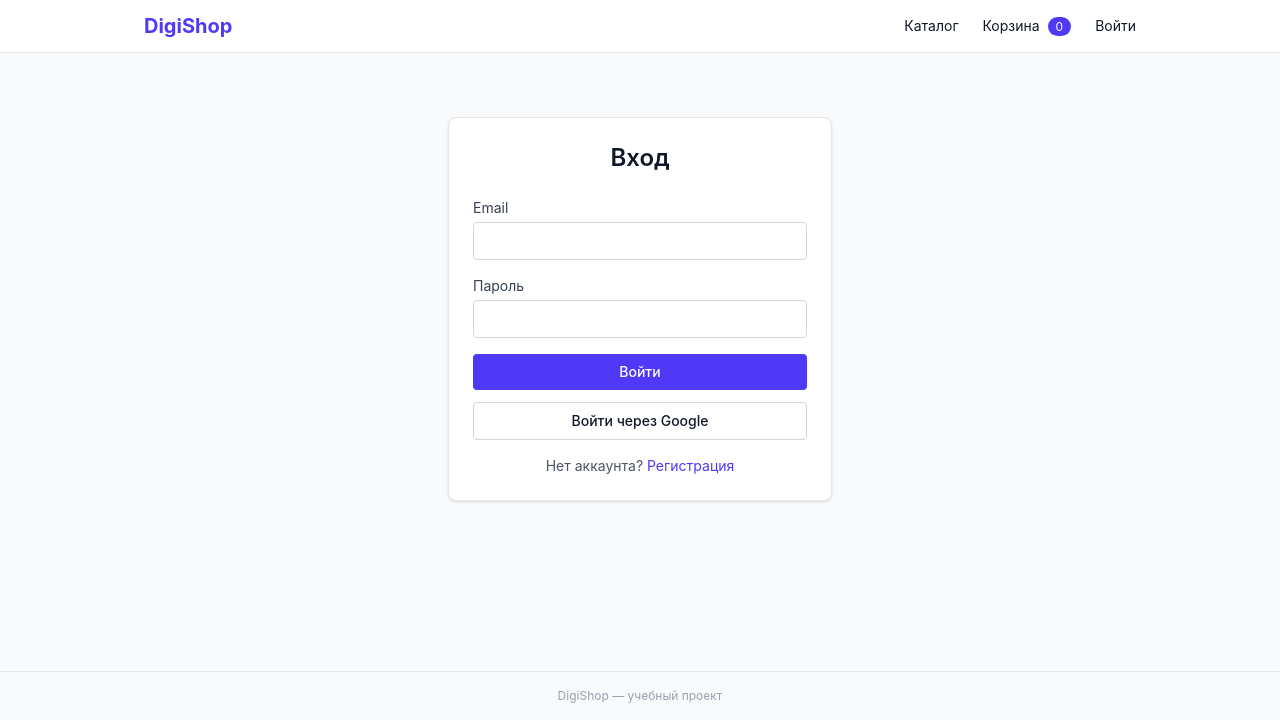
Test case: успешный логин сохраняет токен и переходит на другую страницу
Type "user@example.com" into the field labelled "Email" at (640, 241), box [473,222,807,260]
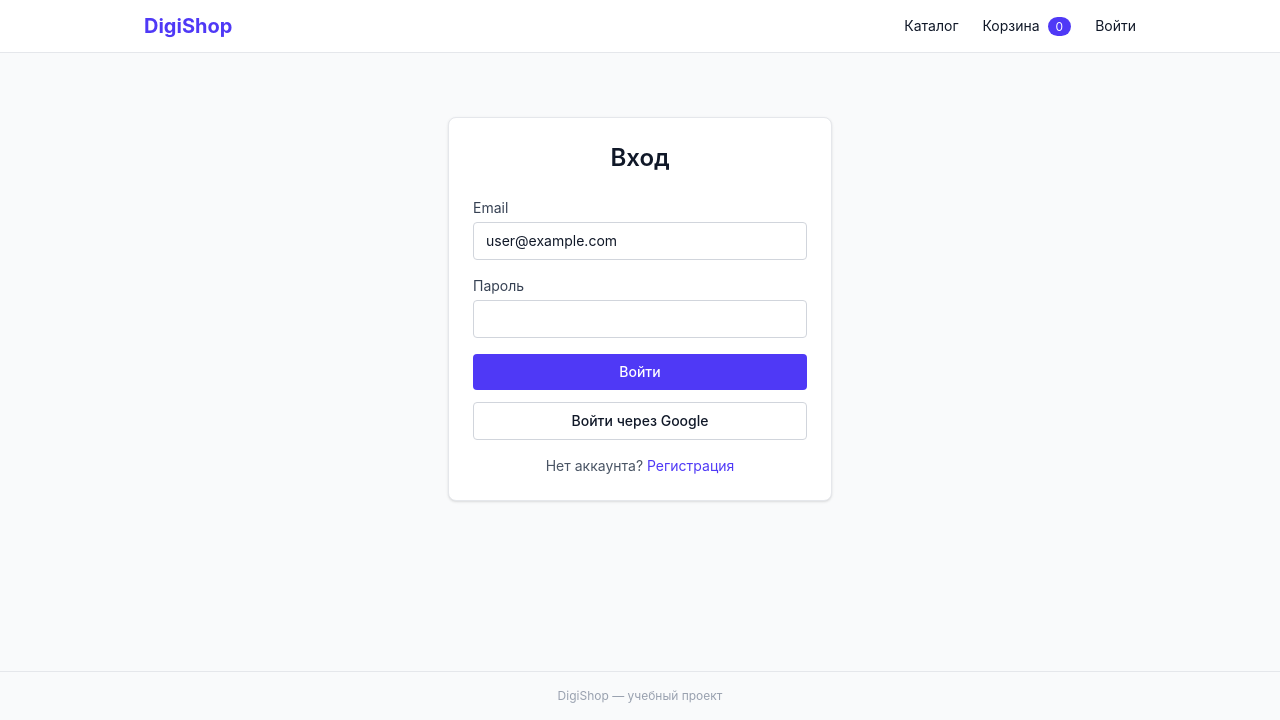
Type "password1" into the password field labelled "Пароль" at (640, 319), box [473,300,807,338]
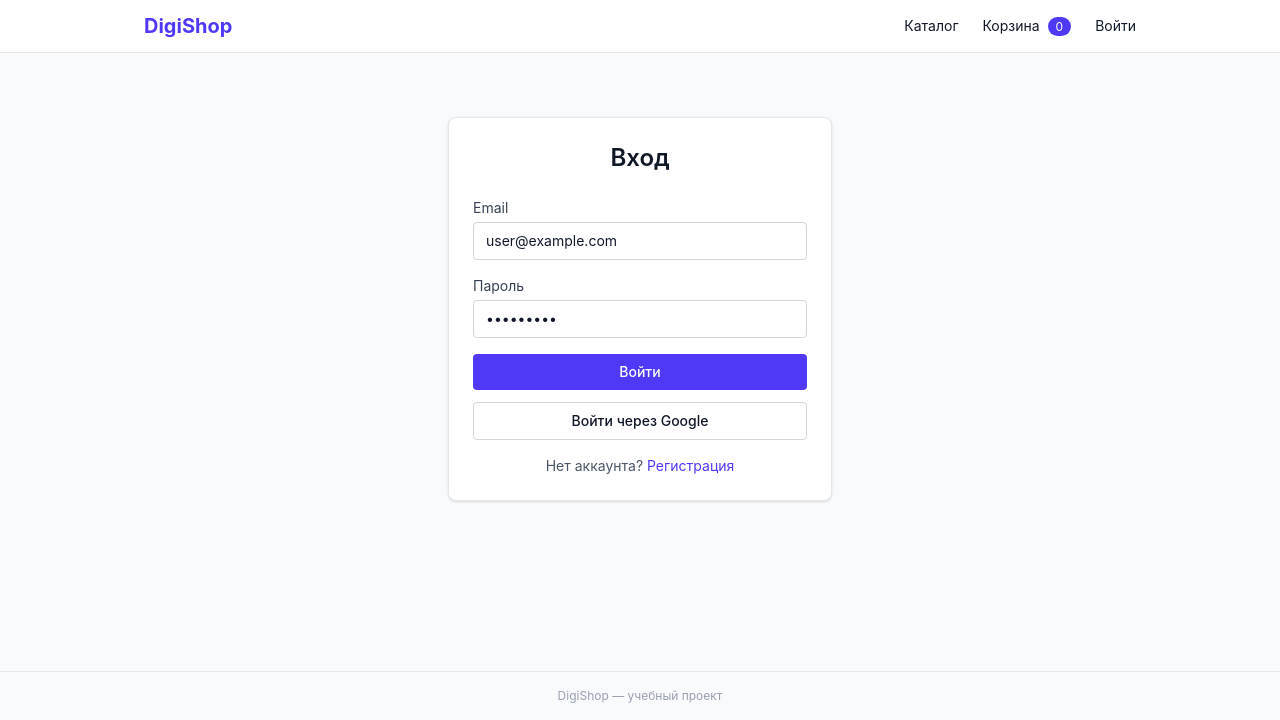
Click the button "Войти" at (640, 372), box [473,354,807,390]
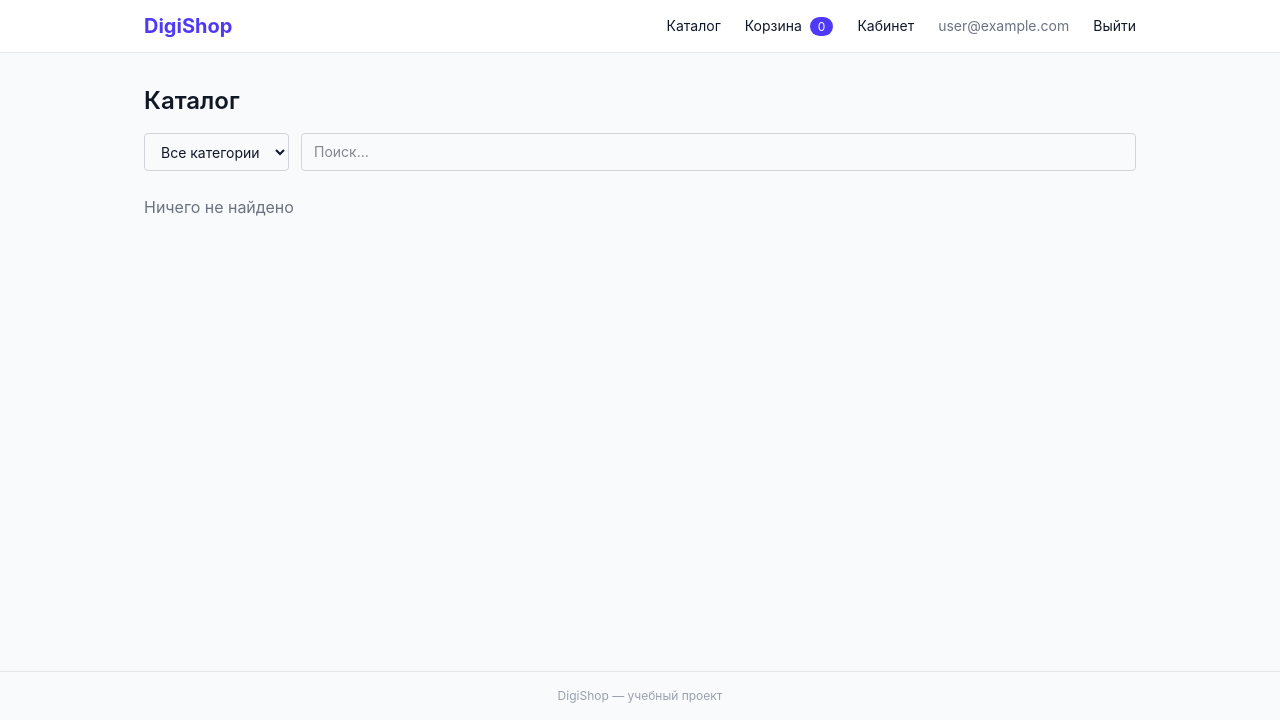
expect the heading "Каталог" is shown: met, box [144,86,240,115]
